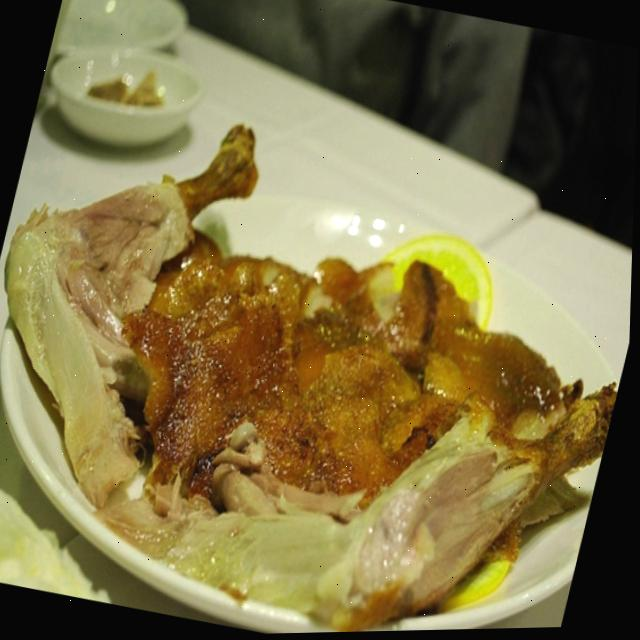烧串烤肉: (0, 64, 638, 640)
